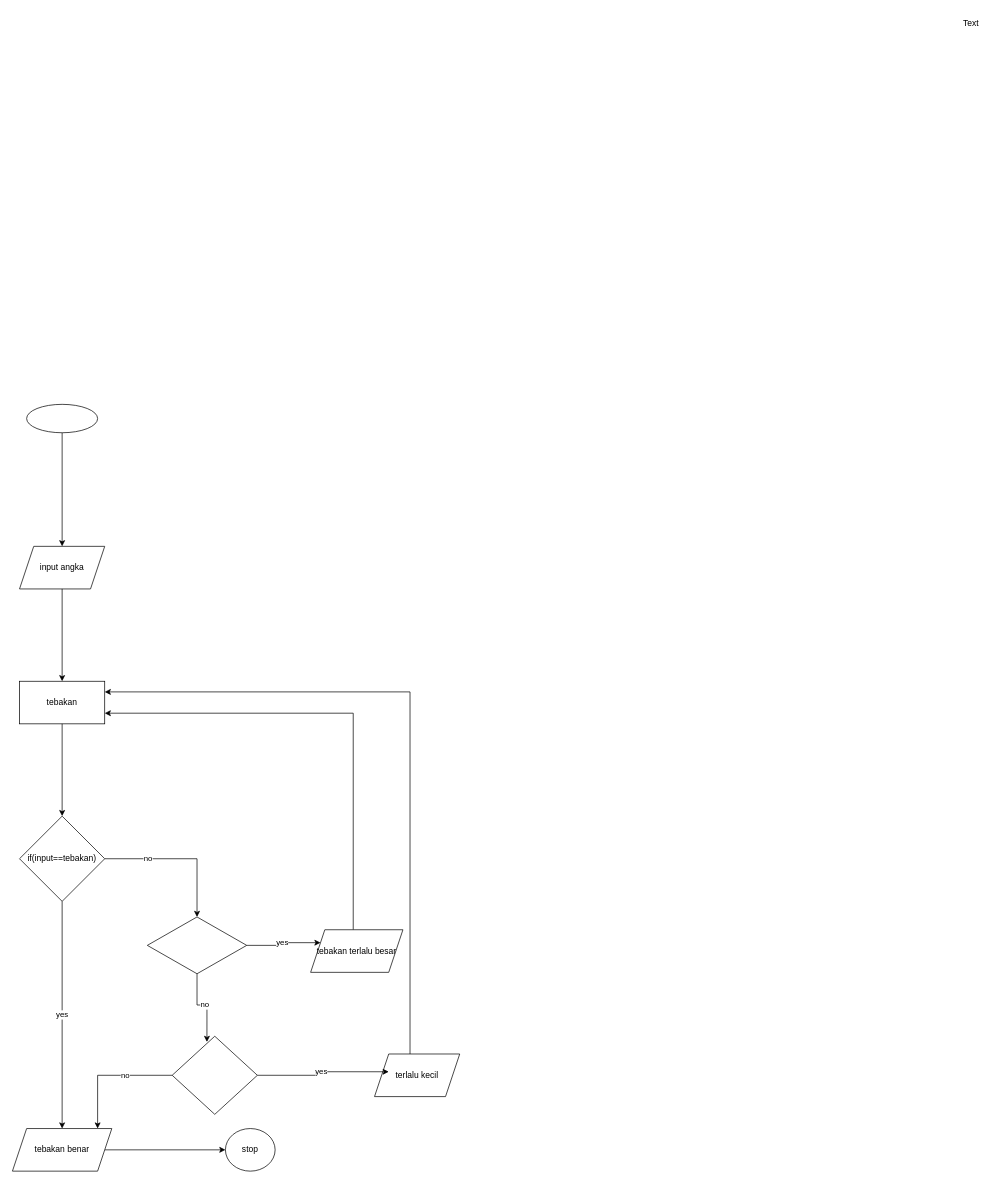
Some shapes in this 1001 by 1184 pixel diagram are drawn without their labels. Here are the shapes that lost their labels. From the top down, the centre of each, then its label:
[62,418]: start
[197,945]: jika tebakan > input
[214,1075]: jika tebakan < input
